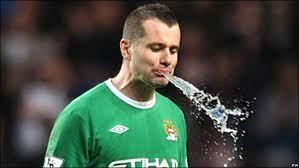spitting: (29, 1, 258, 168)
